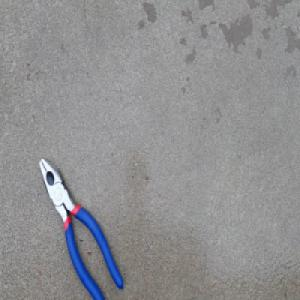Pliers: (38, 155, 125, 300)
